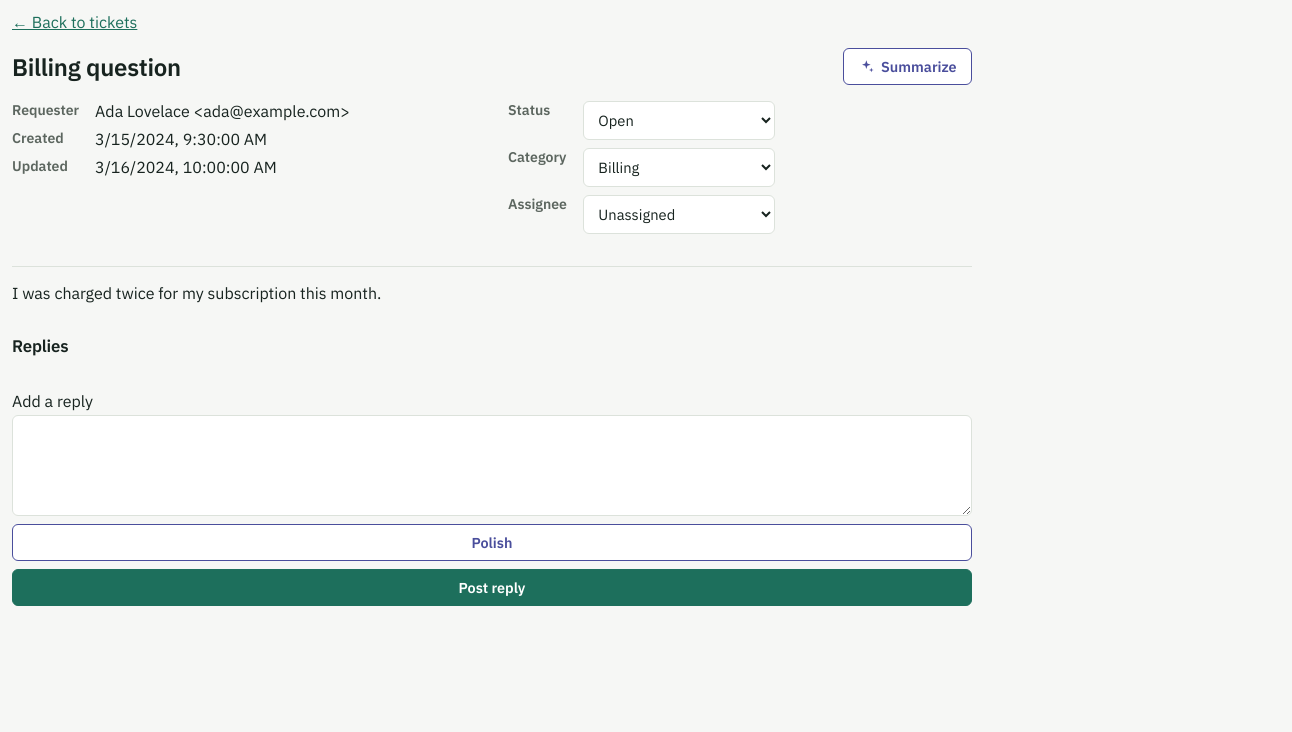
Test: shows the assign error message when assignment fails
This screenshot has width=1292, height=732.
expect the heading "Billing question" is shown: met, box [12, 50, 181, 82]
Select "Grace Hopper" in the dropdown named "Assignee" at (679, 214), box [583, 195, 775, 234]
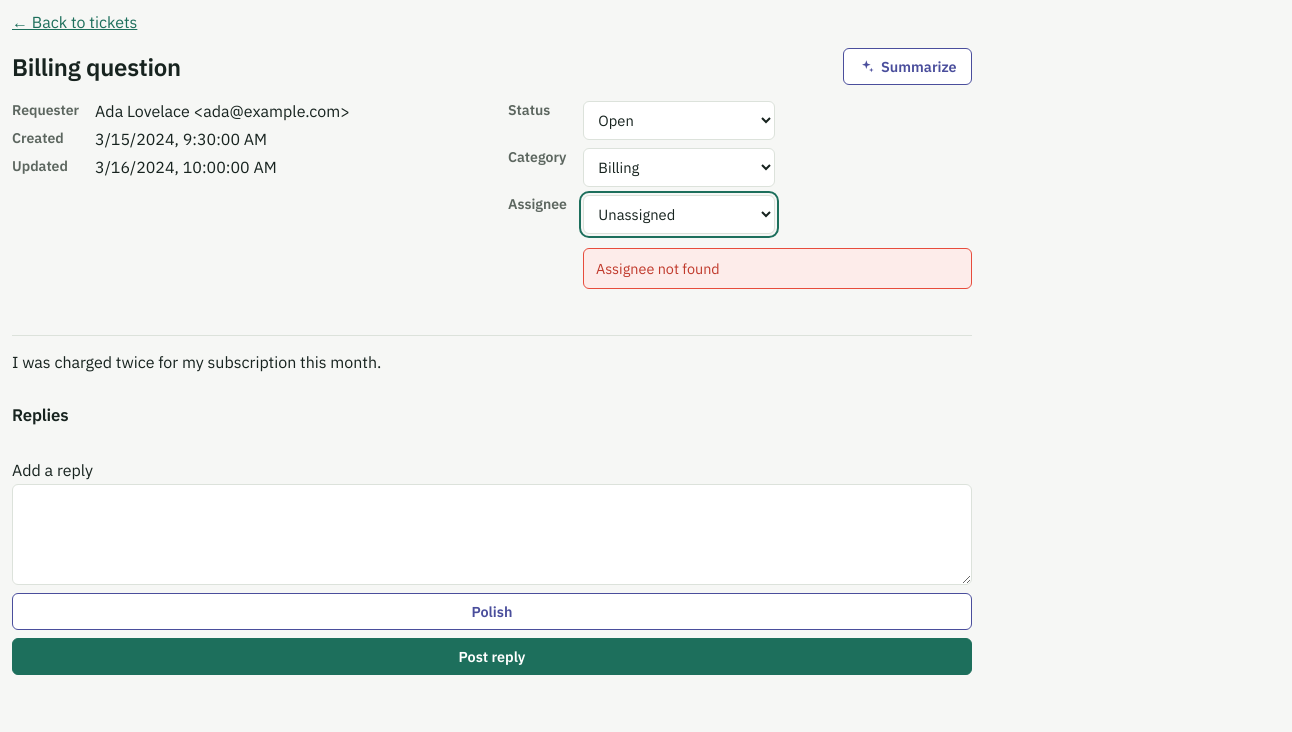
expect the text "Assignee not found" is shown: met, box [583, 248, 972, 289]
